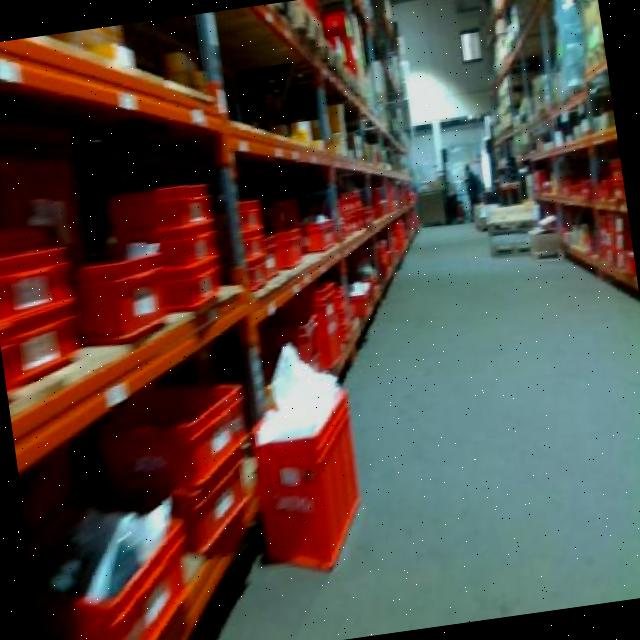pallet: (486, 238, 543, 262), (487, 215, 542, 238), (528, 246, 572, 268)
